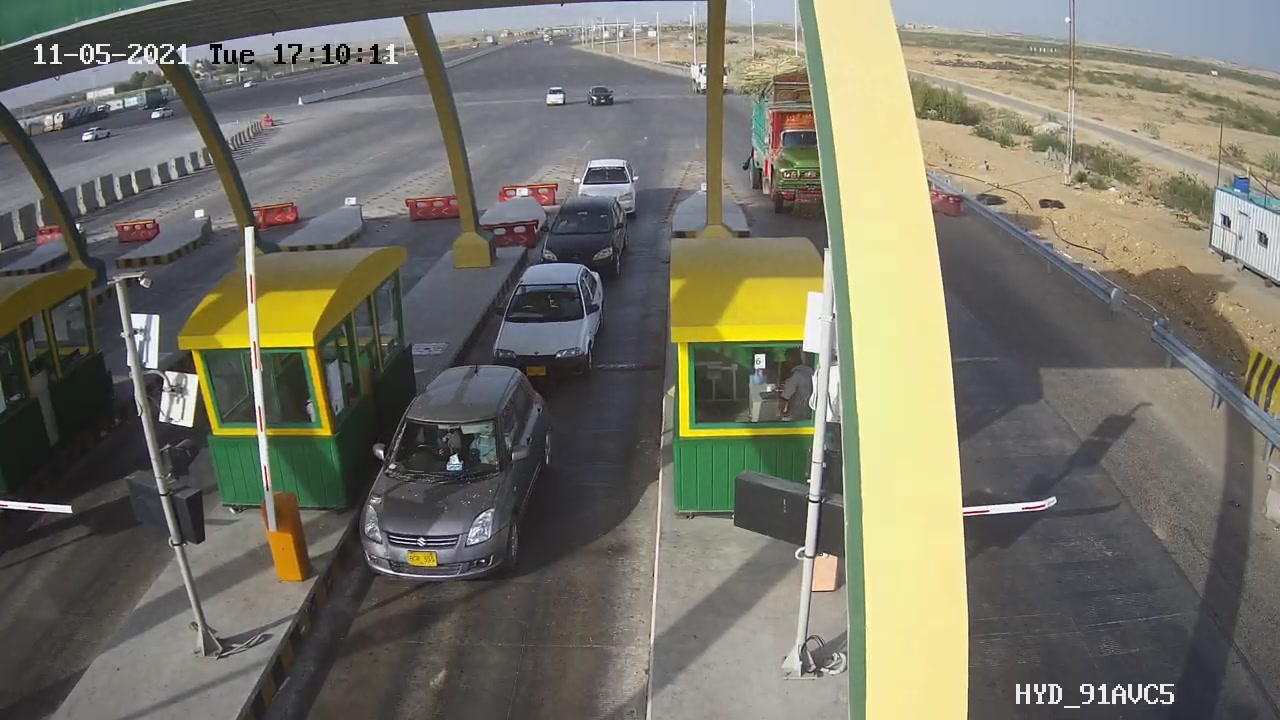F1: (346, 351, 563, 600), (468, 255, 621, 388), (522, 186, 642, 285)
